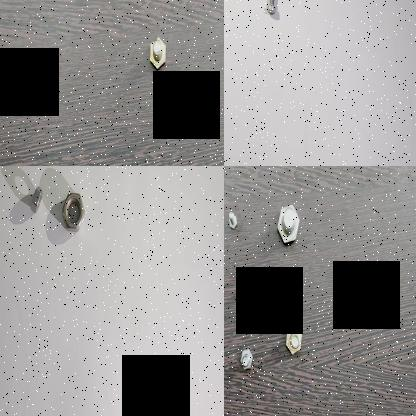Bolts: (271, 200, 300, 250), (280, 318, 306, 358), (143, 33, 167, 76), (235, 340, 255, 378), (224, 204, 240, 233), (261, 0, 281, 18), (238, 278, 250, 296)
NUTS: (61, 178, 89, 235), (21, 176, 45, 224)
